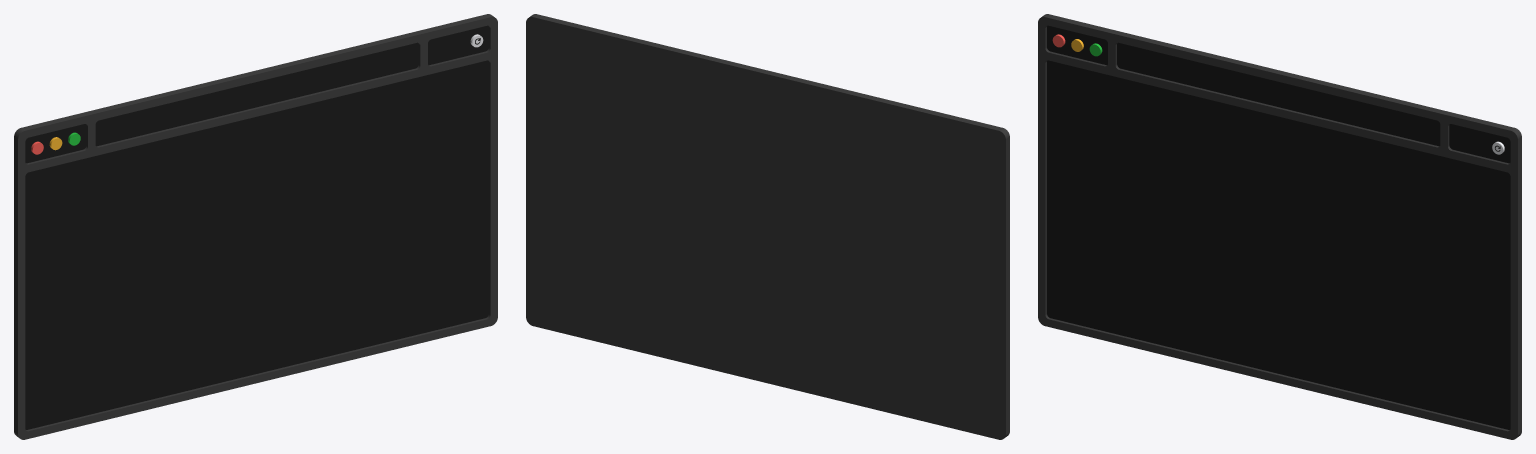
File: Window-transformed.glb
3 renders of one model, left to right at view 1: azimuth 30°, elevation 25°; view 2: azimuth 150°, elevation 25°; view 3: azimuth 330°, elevation 25°, orthographic.
Parts seen in each view (by area): view 1: Group 17.svg; view 2: Group 17.svg; view 3: Group 17.svg.
Part boxes in pixels (<box>): Group 17.svg: <box>14,14,497,439</box>; Group 17.svg: <box>526,14,1009,439</box>; Group 17.svg: <box>1038,14,1521,439</box>.
Size of the model in its own units: 12.04 by 7.4 by 0.1748.
Materials: 1 (1 with a texture image).
